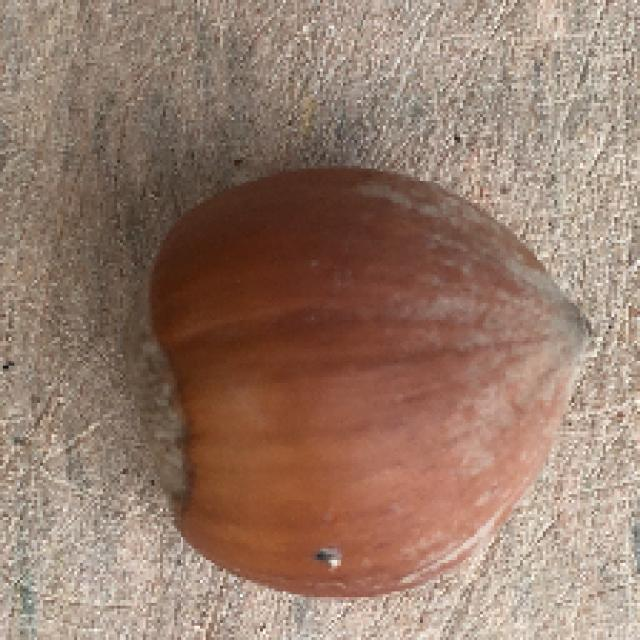qualityHazelnut: (112, 161, 600, 605)
